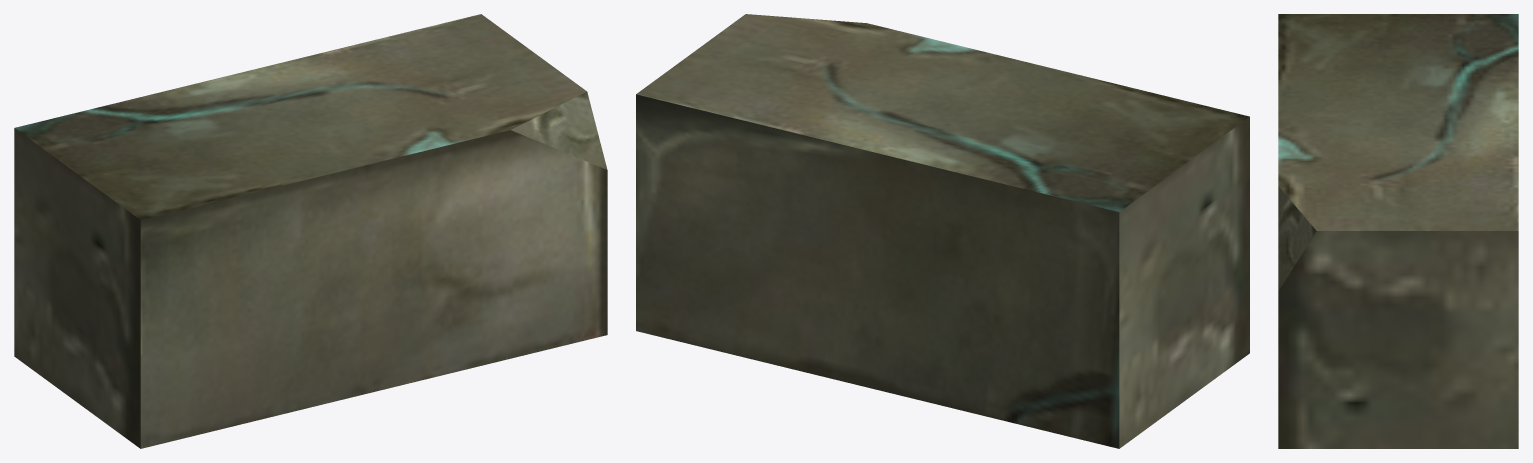
Rendered from F_wujian009.fbx.
The picture shows the model from 3 angles, left to right: view 1: azimuth 30°, elevation 25°; view 2: azimuth 150°, elevation 25°; view 3: azimuth 270°, elevation 25°; orthographic projection. The views are drawn at different scales.
Visible parts, largest first — view 1: F_wujian009; view 2: F_wujian009; view 3: F_wujian009.
Boxes of the visible parts, <box> form: F_wujian009: <box>14,14,607,448</box>; F_wujian009: <box>636,14,1249,448</box>; F_wujian009: <box>1278,14,1518,448</box>.
Size of the model in its own units: 66.07 by 30.93 by 30.93.
